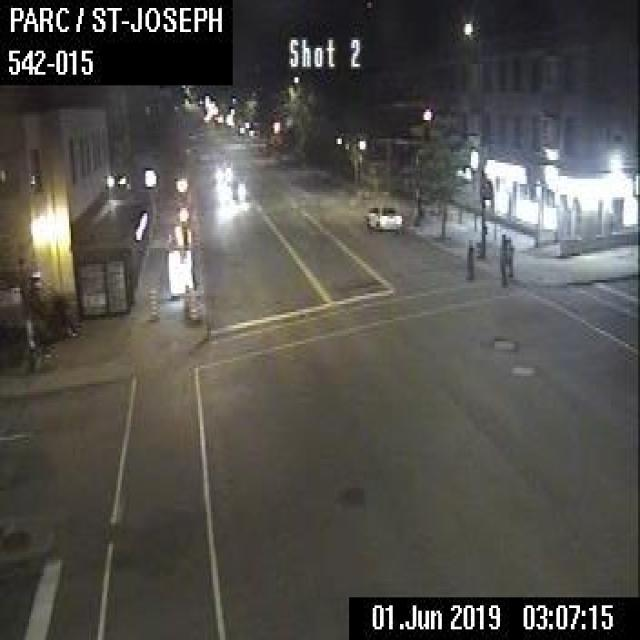construction: (147, 286, 157, 320), (188, 288, 197, 322), (183, 282, 188, 312)
pedestrian: (464, 232, 474, 280), (498, 231, 506, 284), (506, 235, 512, 274)
vehicle: (365, 204, 401, 230), (213, 160, 232, 182)
